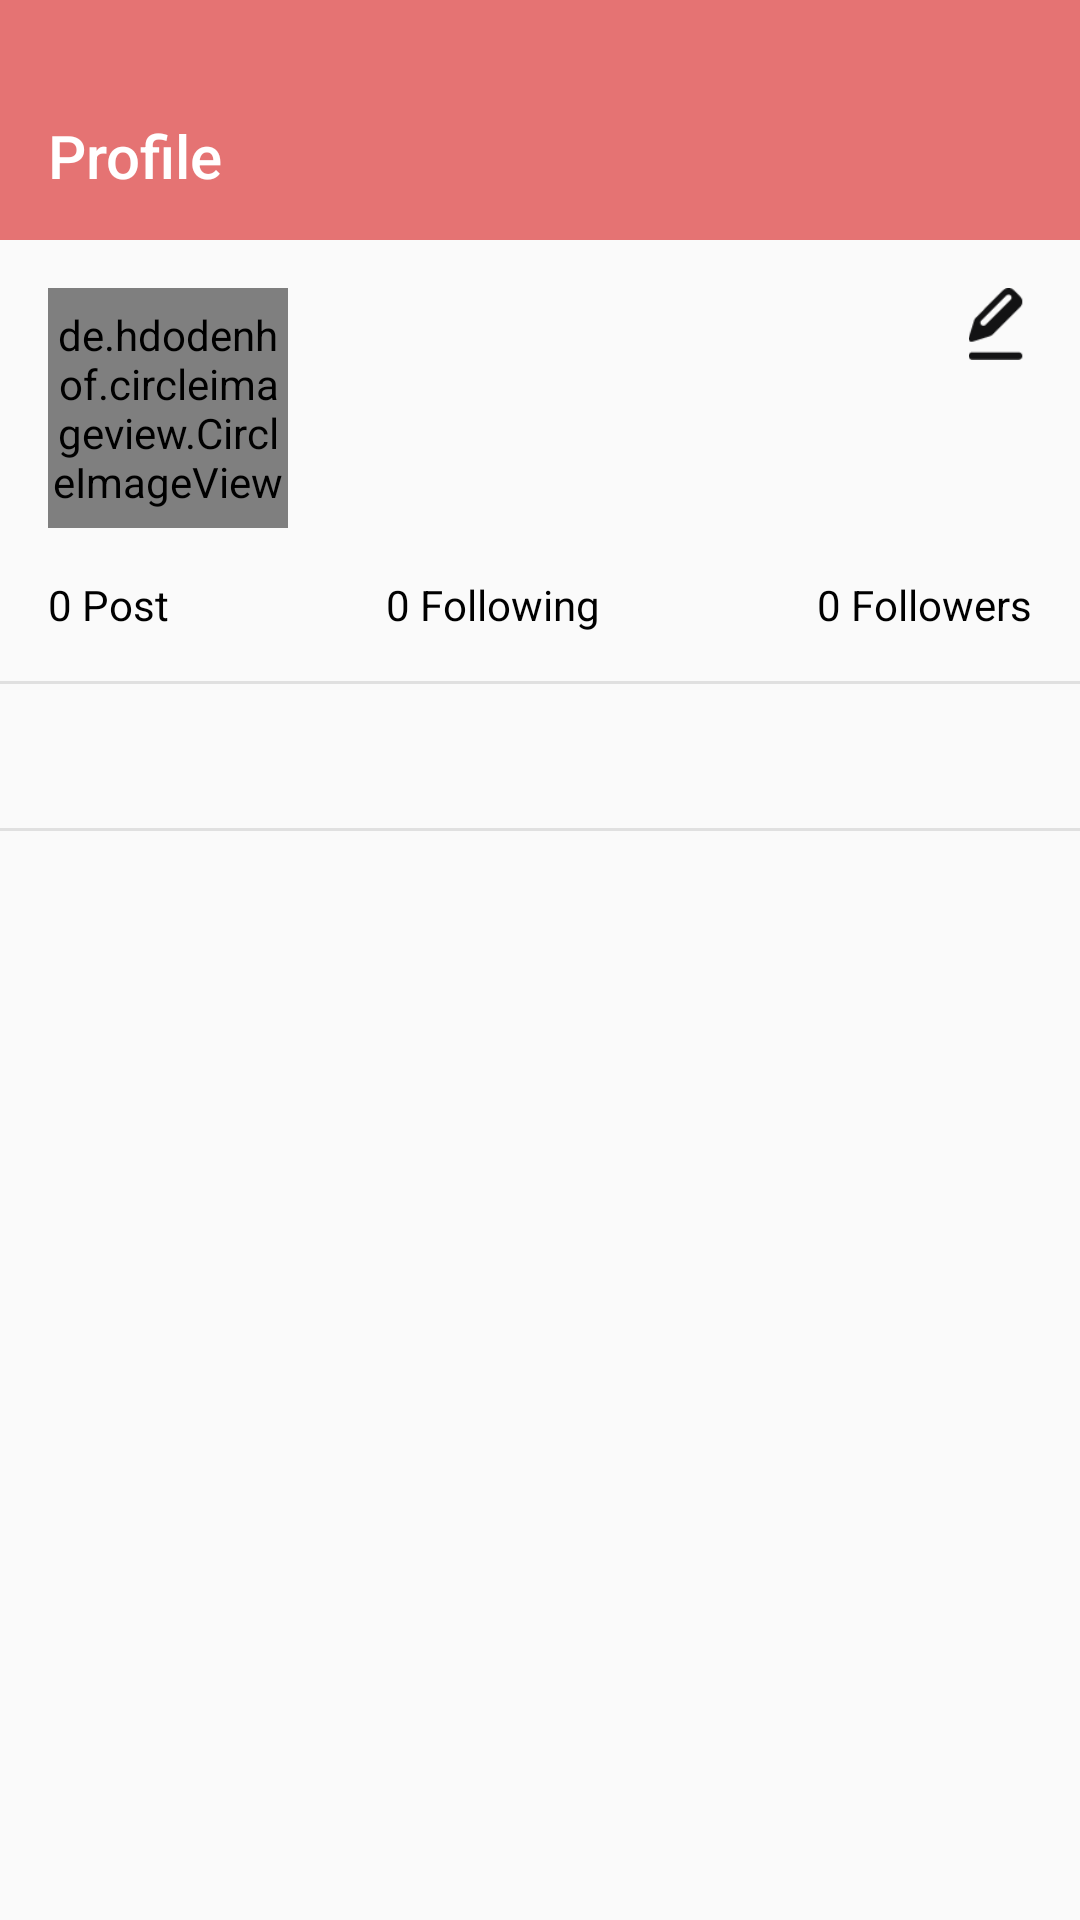

Icon click points for this 1080*1920 phone screenshot, format [x,y]:
edit: [996,324]
